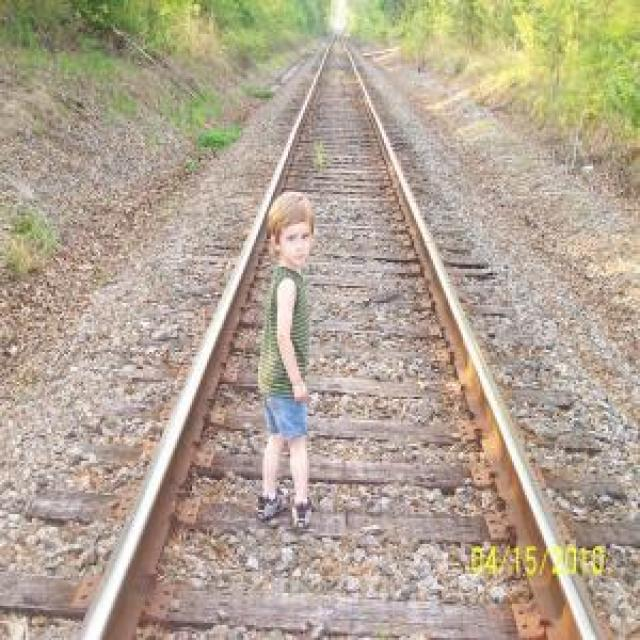danger: (253, 193, 317, 524)
rail: (56, 36, 630, 640)
